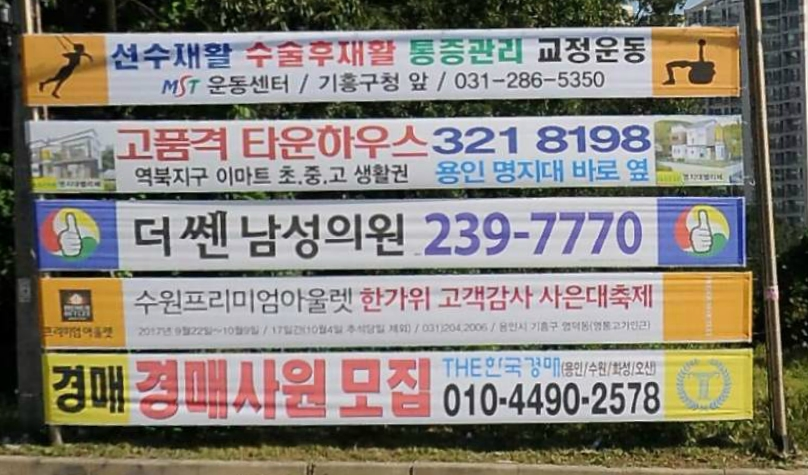banner: (34, 346, 768, 433), (15, 115, 767, 194), (15, 22, 744, 103), (30, 270, 787, 347), (29, 196, 758, 269)
